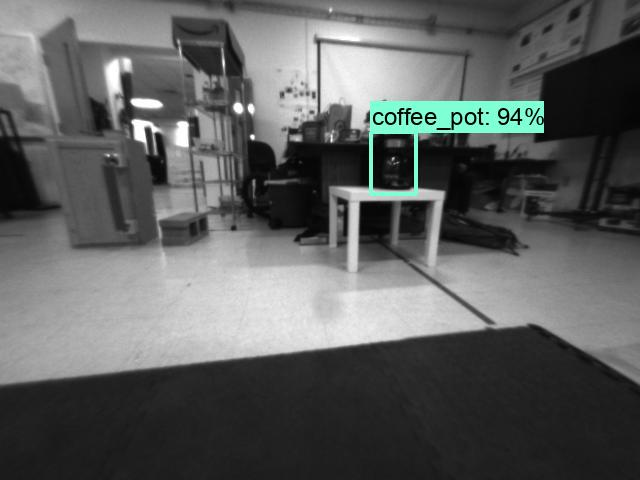coffee_pot: (369, 129, 410, 190)
